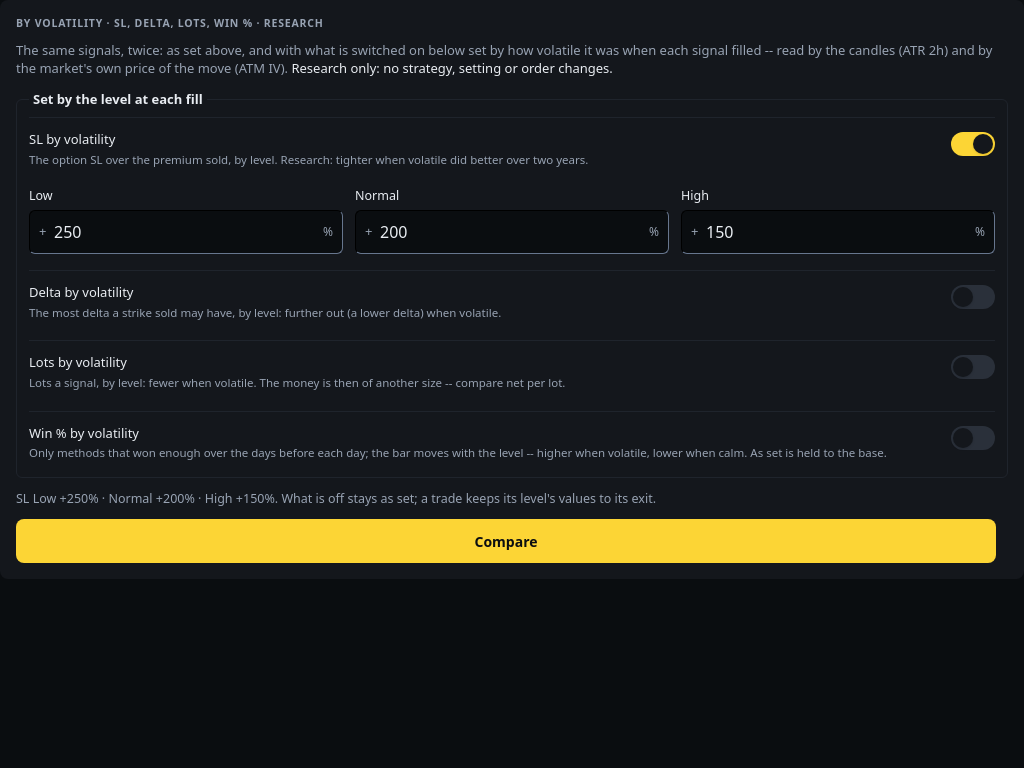
Test: VolStudy › [critical] each way of reading volatility beside the settings as set: the better of each figure marked, and a verdict that needs both halves
Click the button "Compare".
click(506, 541)  # box [16,519,996,563]
(page scrolled)
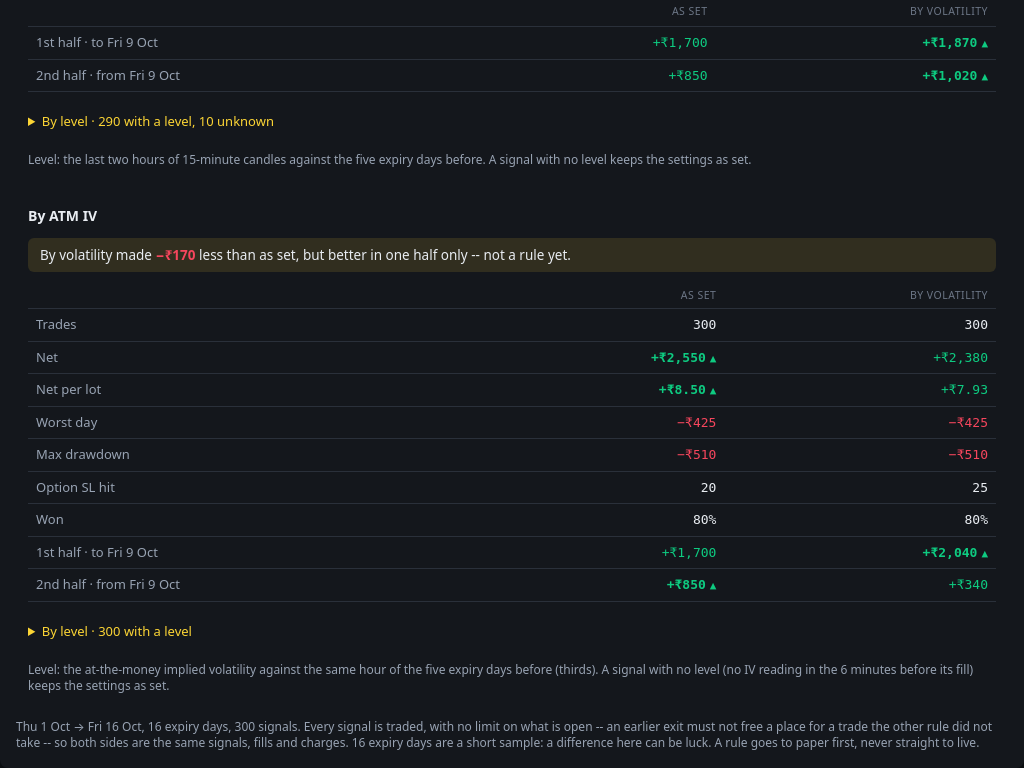
Now the heading "By level · 290 with a level, 10 unknown" is shown, box [42,112,274,130]
